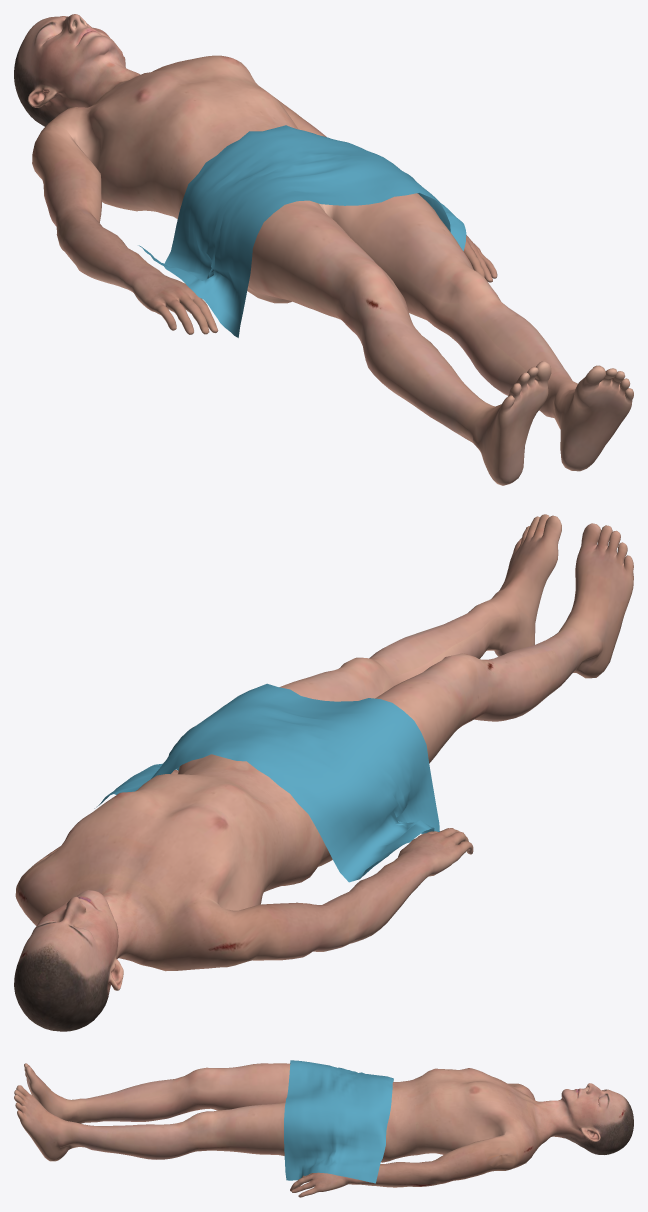
Rendered from patient.glb.
3 renders of one model, top to bottom at view 1: azimuth 30°, elevation 25°; view 2: azimuth 150°, elevation 25°; view 3: azimuth 270°, elevation 25°, orthographic. The views are drawn at different scales.
Parts seen in each view (by area): view 1: Body, Serviette; view 2: Body, Serviette; view 3: Body, Serviette.
Boxes of the visible parts, x1,y1,x2,y2 form: Body: (14,14,633,485); Serviette: (138,125,466,337); Body: (14,514,633,1031); Serviette: (94,683,439,882); Body: (14,1063,633,1197); Serviette: (284,1060,393,1183).
Size of the model in its own units: 32.18 by 13.49 by 93.21.
2 materials, 1 textured.
